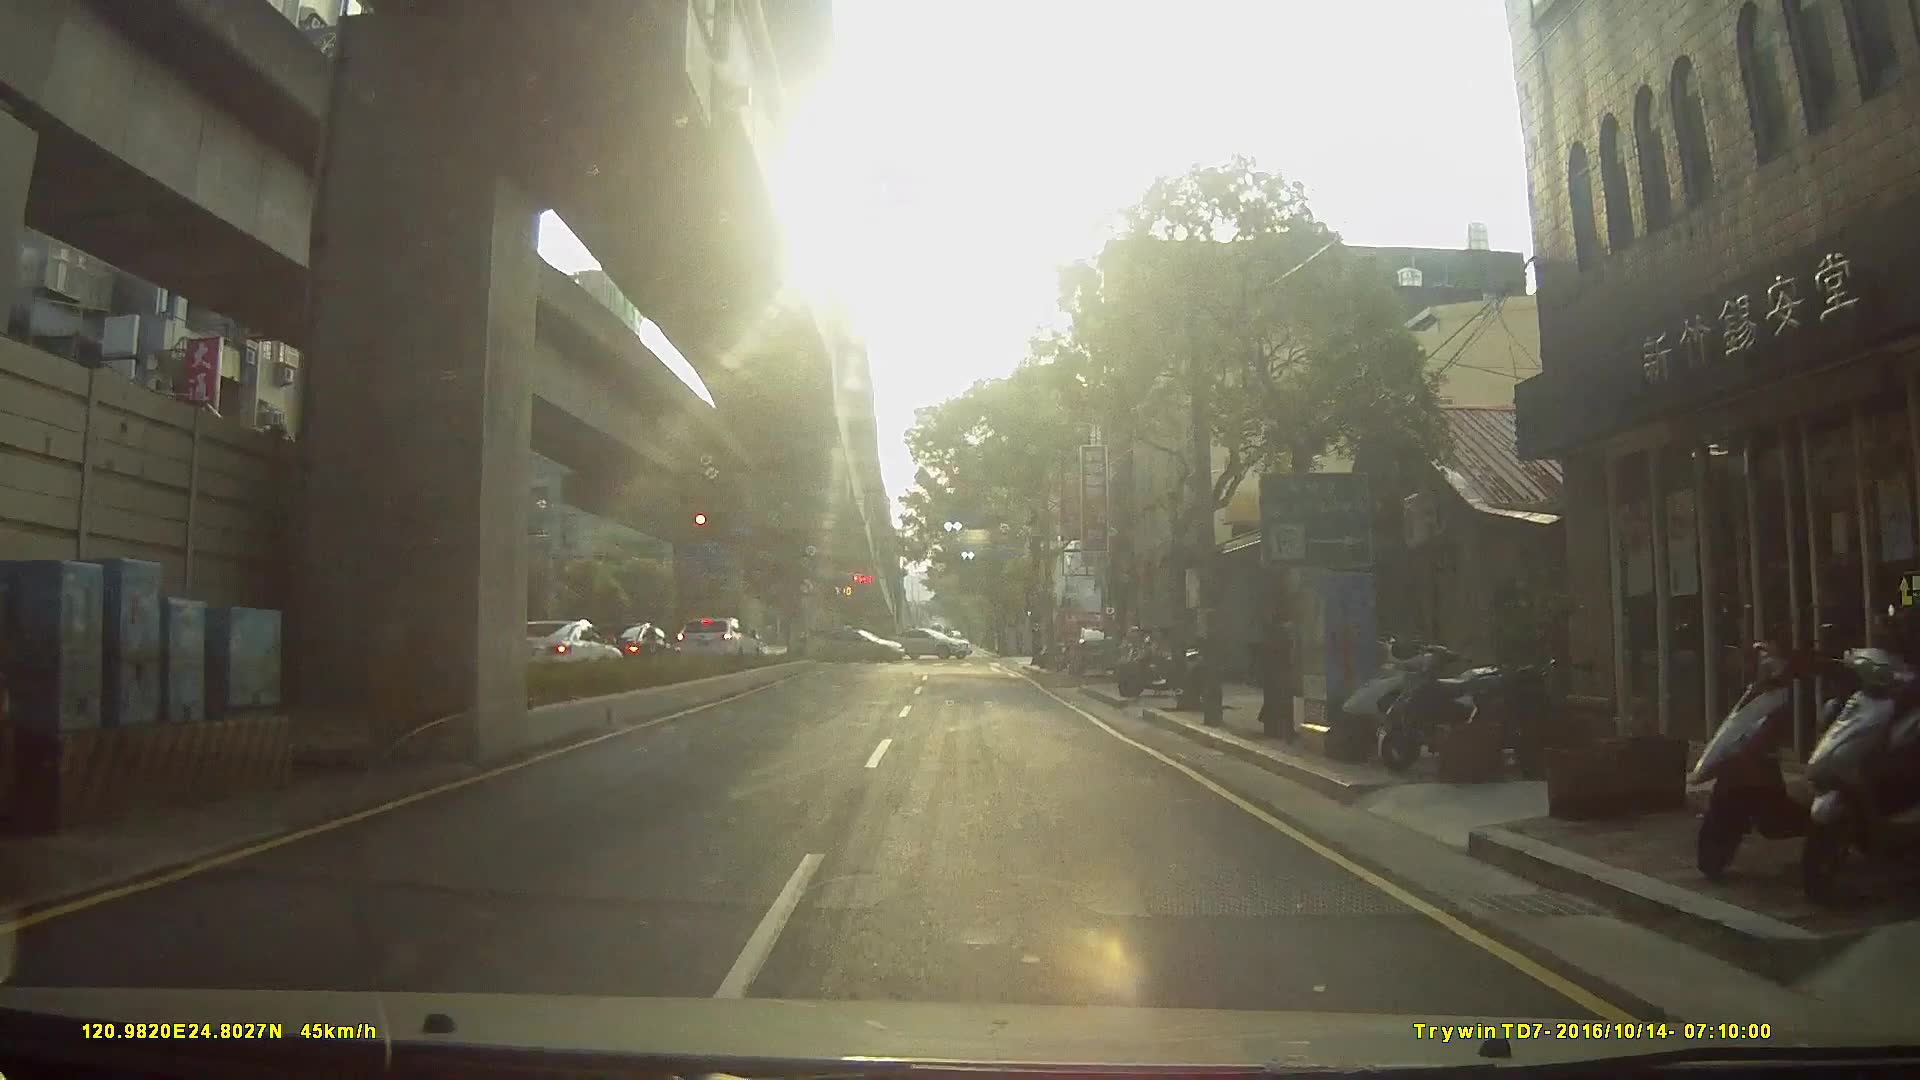vehicle: (493, 617, 618, 683), (583, 621, 679, 674), (670, 616, 761, 665), (807, 626, 909, 665), (1065, 621, 1125, 675), (887, 626, 975, 659)
